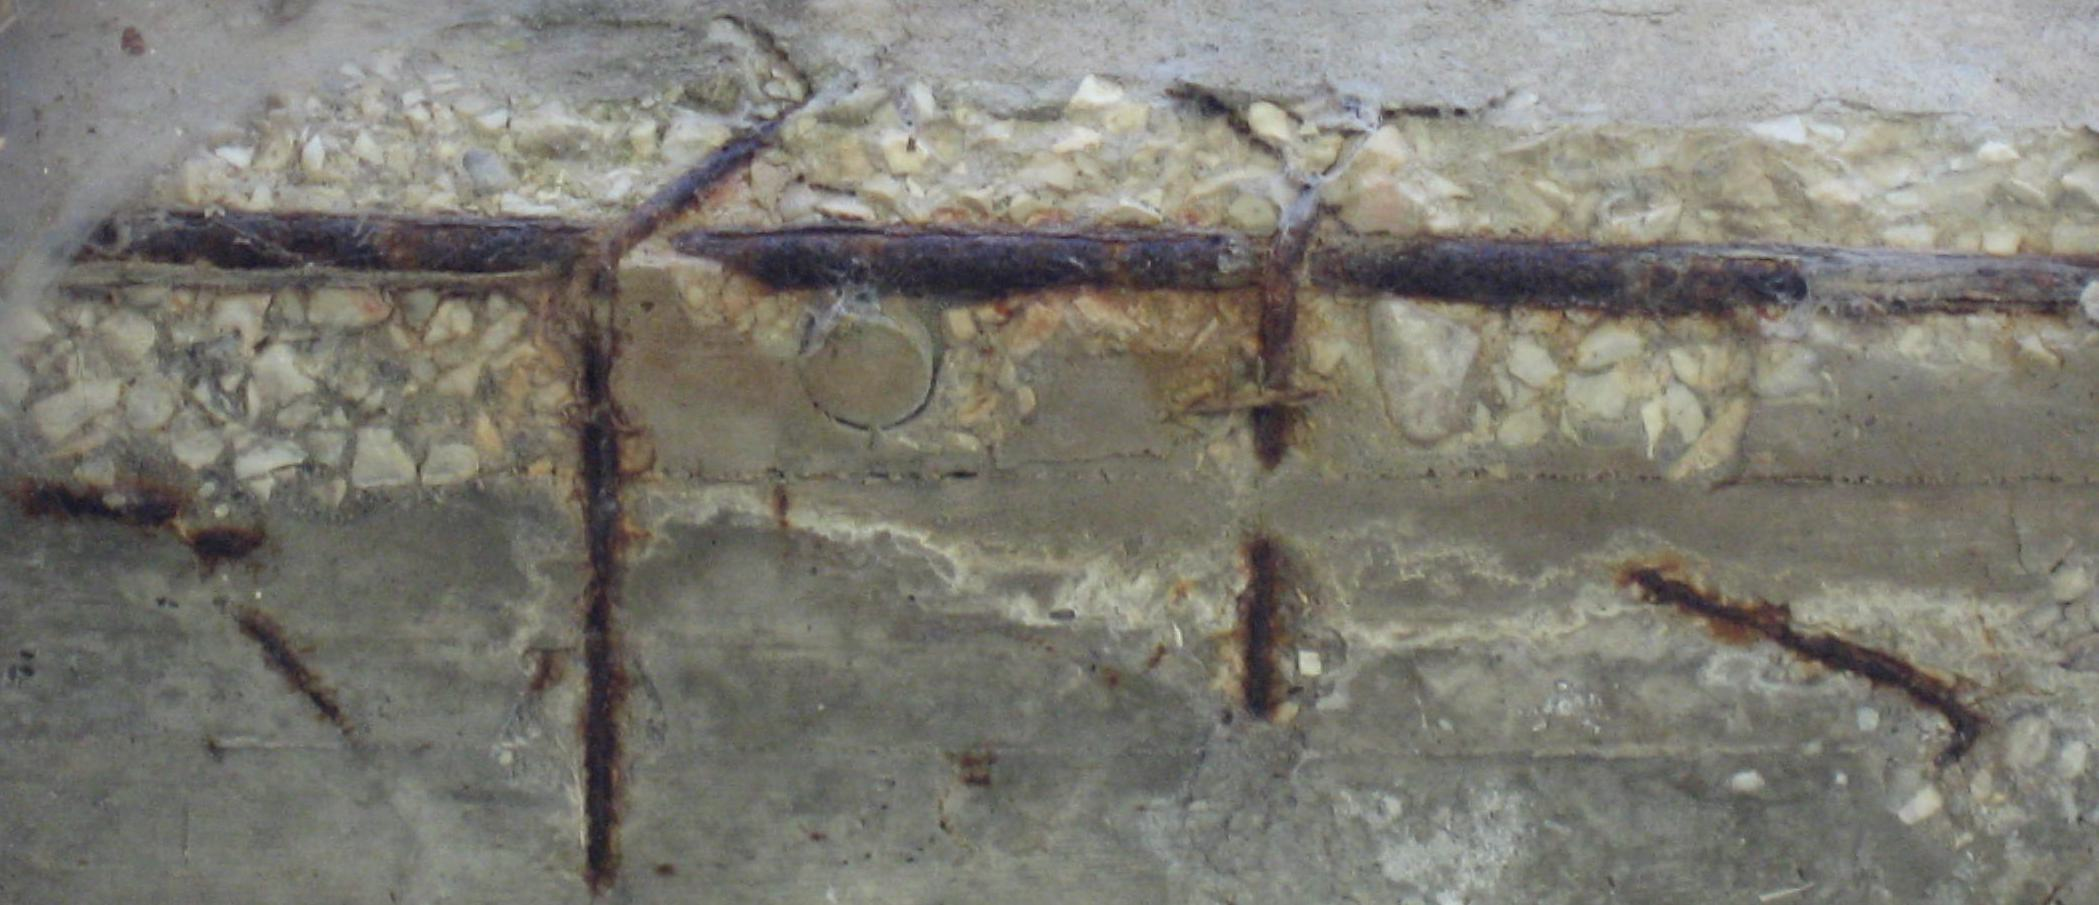Exposed reinforcement: (62, 209, 2099, 327), (1622, 562, 1984, 744), (584, 96, 810, 299), (572, 304, 626, 894), (1246, 185, 1327, 475), (240, 614, 344, 728), (1236, 536, 1286, 724), (19, 481, 181, 527), (187, 523, 268, 564)
Spalling: (1, 70, 2099, 514)
